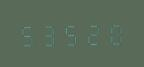five: (18, 20, 38, 47), (60, 20, 80, 46)
three: (39, 20, 59, 47)
two: (81, 19, 101, 46)
zero: (102, 19, 122, 46)
